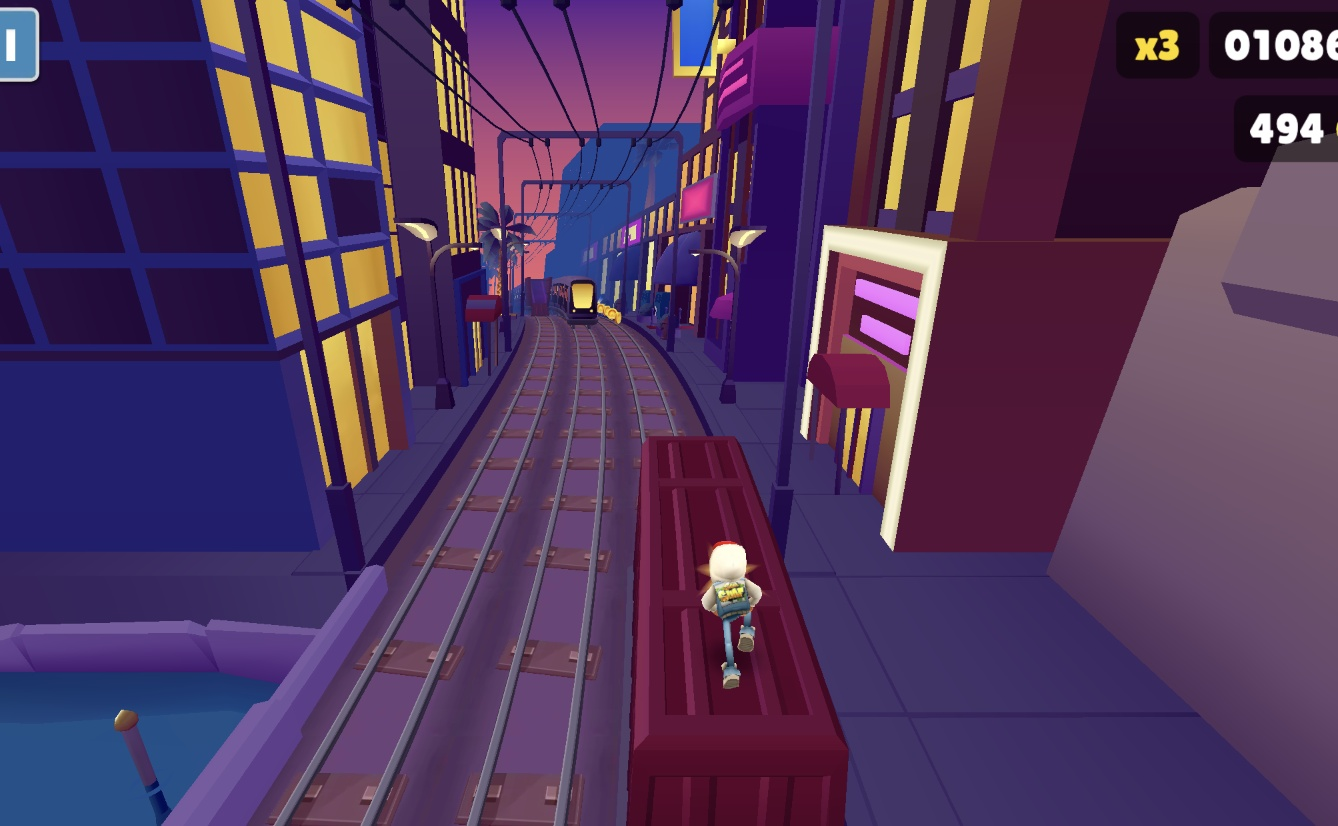train: (622, 437, 851, 826), (569, 282, 604, 317)
